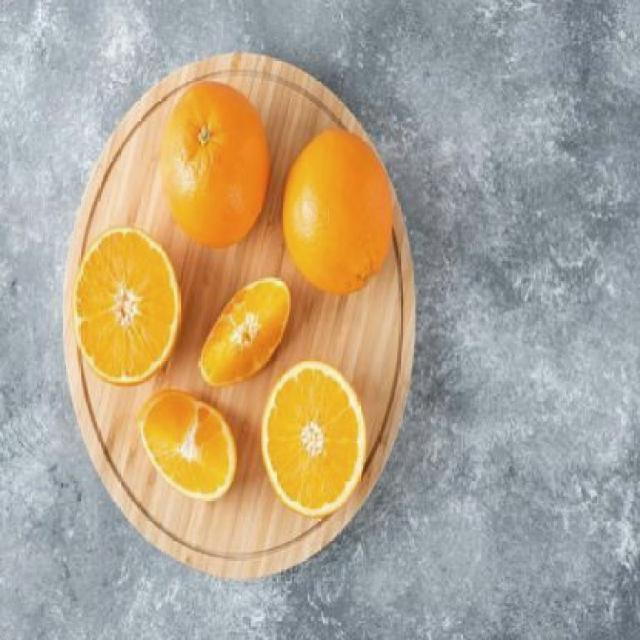Jeruk Sudah Matang: (156, 77, 269, 250), (281, 128, 397, 296)
